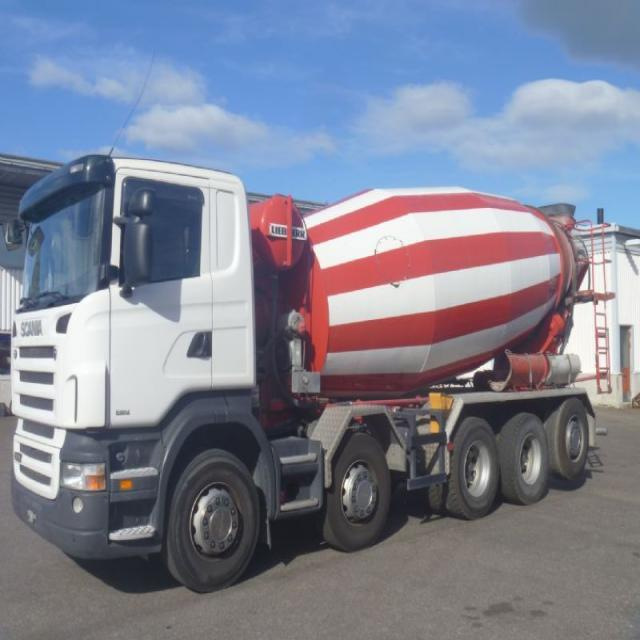Mixer Truck: (11, 155, 615, 592)
